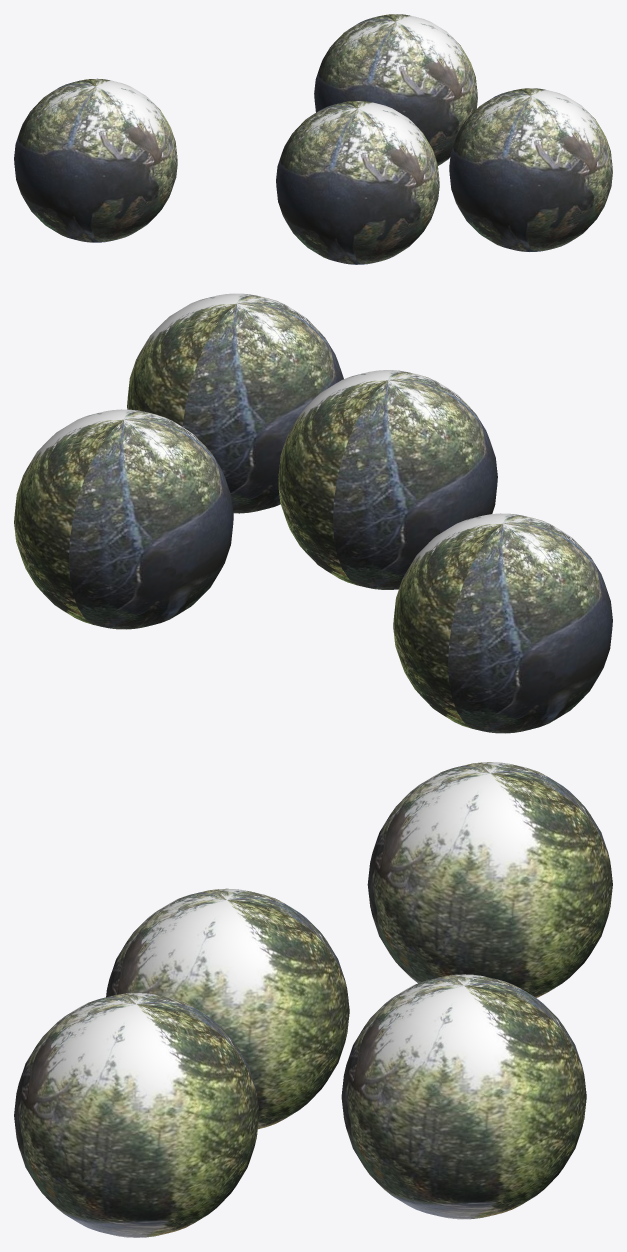
Rendered from spheres.FBX.
3 renders of one model, top to bottom at view 1: azimuth 30°, elevation 25°; view 2: azimuth 150°, elevation 25°; view 3: azimuth 270°, elevation 25°, orthographic. The views are drawn at different scales.
Parts seen in each view (by area): view 1: Sphere01, Sphere03, Sphere04, Sphere02; view 2: Sphere02, Sphere04, Sphere01, Sphere03; view 3: Sphere02, Sphere03, Sphere04, Sphere01.
Part boxes in pixels (x1,y1,x2,y2): Sphere01: (276, 101, 439, 264); Sphere03: (449, 88, 612, 251); Sphere04: (14, 78, 177, 242); Sphere02: (314, 14, 477, 165); Sphere02: (14, 409, 233, 629); Sphere04: (393, 513, 612, 733); Sphere01: (278, 370, 497, 589); Sphere03: (127, 293, 343, 513); Sphere02: (341, 974, 586, 1219); Sphere03: (14, 993, 259, 1237); Sphere04: (367, 762, 612, 997); Sphere01: (106, 888, 349, 1129).
Bounding box in the file's own units: 208 × 64.6 × 158.
